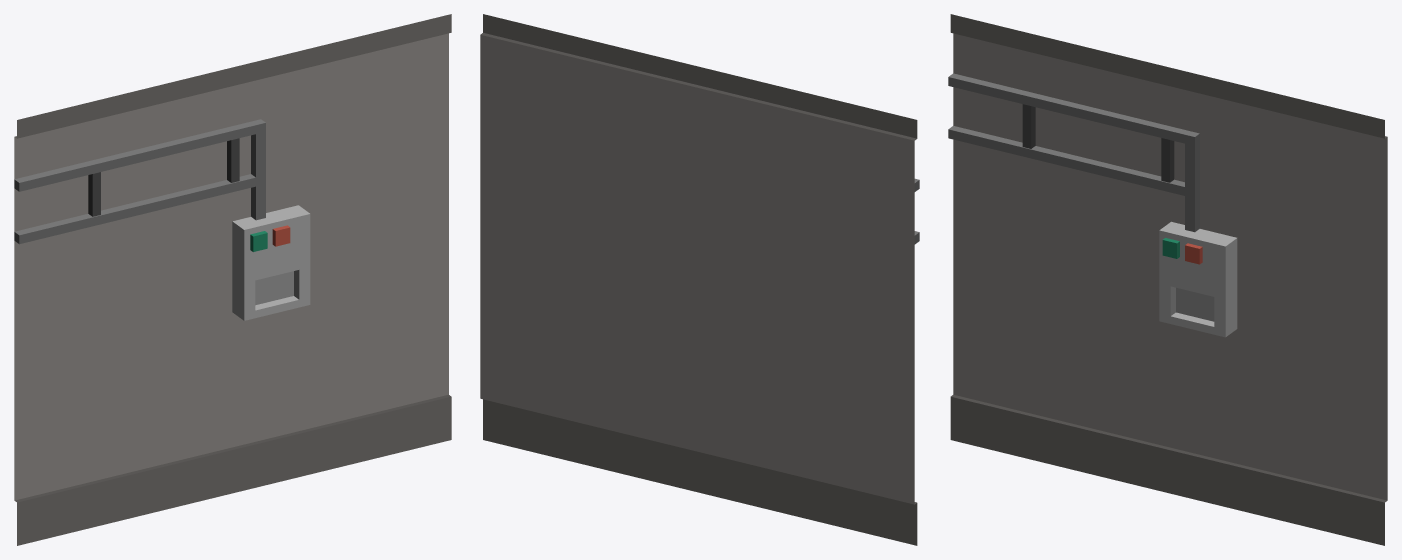
The model's file is AI_Env_Wall_Grey_Electronics_End.fbx.
3 views of the same model, side by side, from view 1: azimuth 30°, elevation 25°; view 2: azimuth 150°, elevation 25°; view 3: azimuth 330°, elevation 25° (orthographic).
Parts seen in each view (by area): view 1: AI_Env_Wall_Grey_Electronics_End; view 2: AI_Env_Wall_Grey_Electronics_End; view 3: AI_Env_Wall_Grey_Electronics_End.
Boxes of the visible parts, bbox=[...] form: AI_Env_Wall_Grey_Electronics_End: bbox=[14, 14, 451, 545]; AI_Env_Wall_Grey_Electronics_End: bbox=[480, 14, 919, 545]; AI_Env_Wall_Grey_Electronics_End: bbox=[948, 14, 1387, 545].
Size of the model in its own units: 5 by 4.69 by 0.2941.
